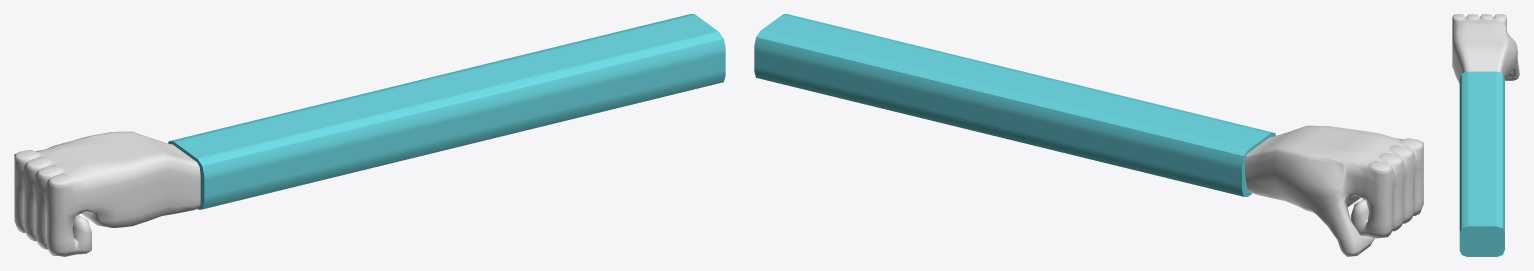
The model's file is ArmLong2.fbx.
The picture shows the model from 3 angles, left to right: view 1: azimuth 30°, elevation 25°; view 2: azimuth 150°, elevation 25°; view 3: azimuth 270°, elevation 25°; orthographic projection. The views are drawn at different scales.
Visible parts, largest first — view 1: Sleeve2, Hand2; view 2: Sleeve2, Hand2; view 3: Sleeve2, Hand2.
Part boxes in pixels (box(x1,y1,x2,y2)): Sleeve2: box(168, 14, 725, 209); Hand2: box(14, 131, 200, 256); Sleeve2: box(754, 14, 1275, 196); Hand2: box(1245, 125, 1423, 256); Sleeve2: box(1459, 71, 1504, 256); Hand2: box(1452, 14, 1519, 83).
Size of the model in its own units: 15.77 by 2.15 by 2.23.
